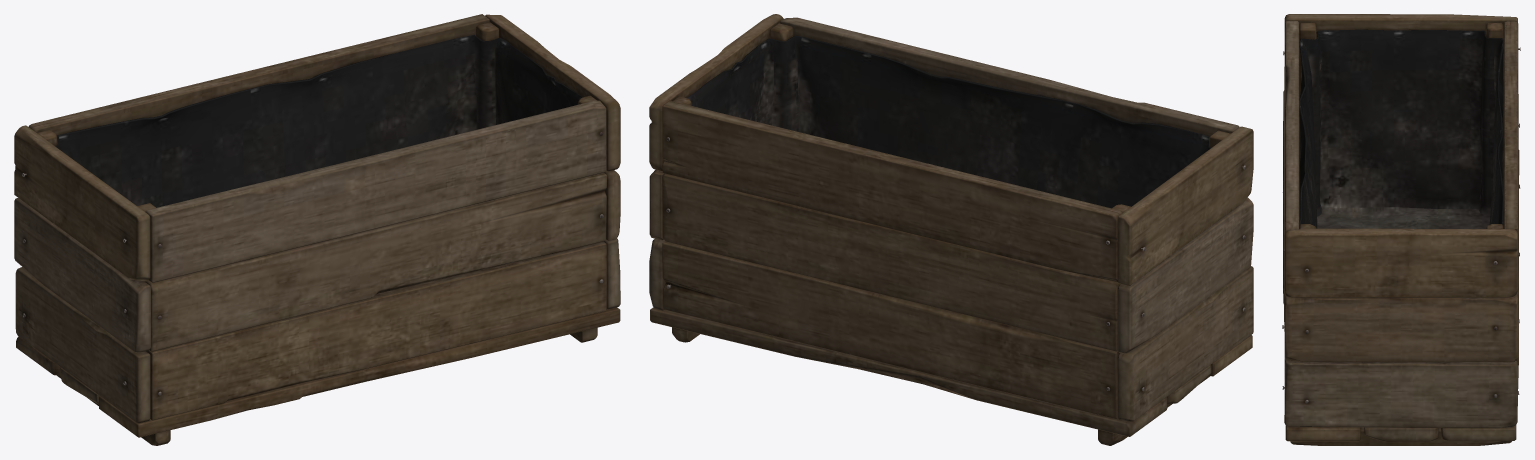
Rendered from plantenbak_hout.gltf.
3 renders of one model, left to right at view 1: azimuth 30°, elevation 25°; view 2: azimuth 150°, elevation 25°; view 3: azimuth 270°, elevation 25°, orthographic. The views are drawn at different scales.
Parts seen in each view (by area): view 1: planter_box_01; view 2: planter_box_01; view 3: planter_box_01.
Boxes of the visible parts, x1,y1,x2,y2 form: planter_box_01: (14, 14, 620, 445); planter_box_01: (649, 14, 1253, 445); planter_box_01: (1282, 14, 1520, 445).
Bounding box in the file's own units: 0.9126 × 0.4249 × 0.4137.
1 material, 1 textured.
